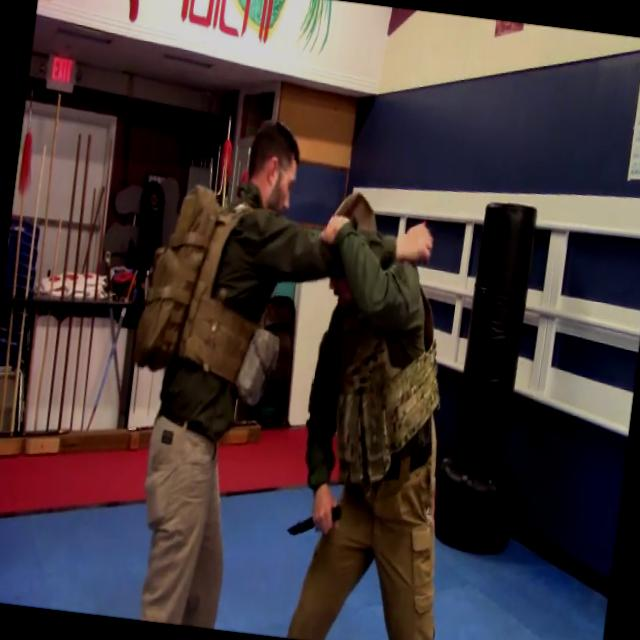knife: (282, 499, 342, 557)
